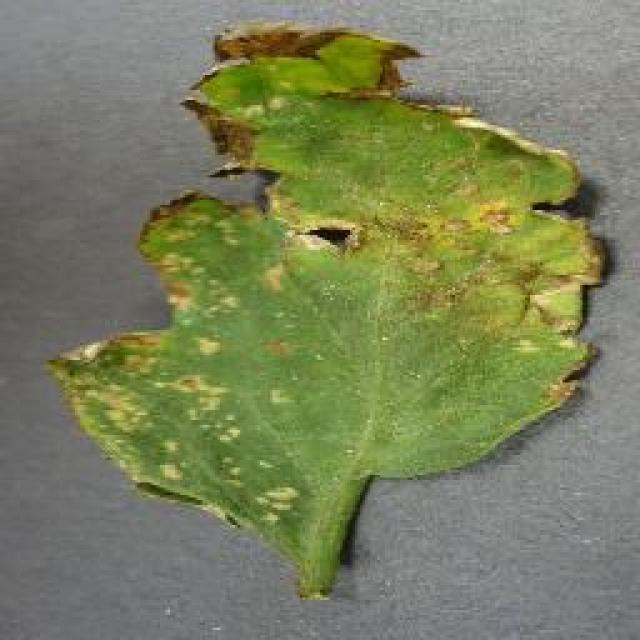Tomato bacterial spot leaf: (39, 14, 625, 613)
